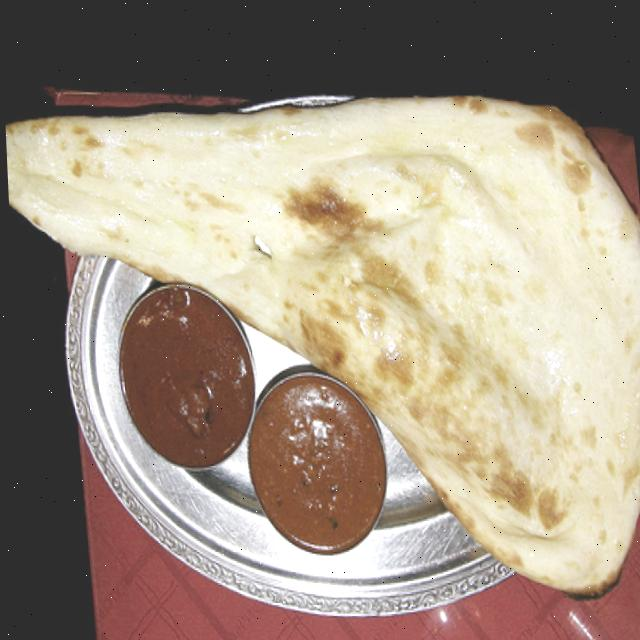牛肉菜式: (94, 280, 267, 487), (239, 356, 394, 561)
